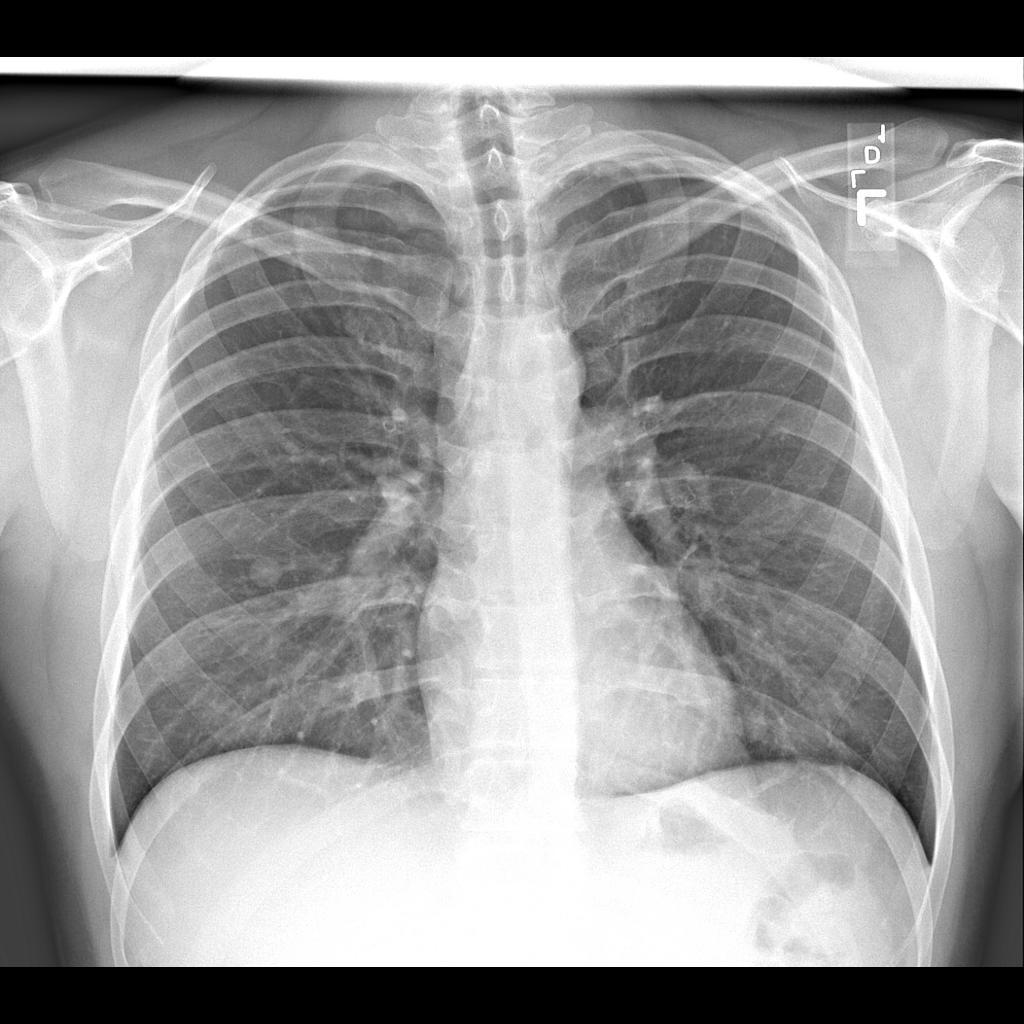Nodule: (246, 552, 285, 593)
